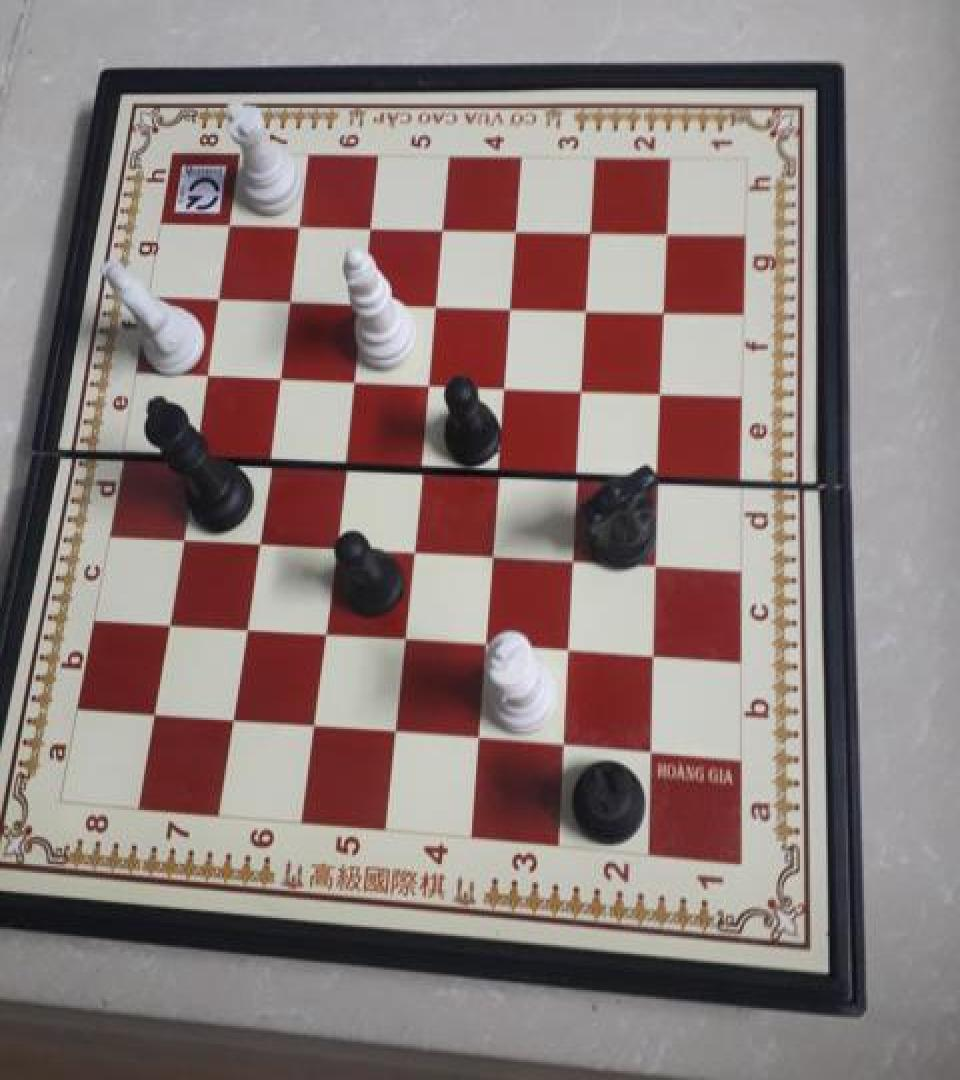xcorner: (141, 693, 169, 725), (300, 705, 328, 737), (381, 712, 409, 744), (465, 720, 493, 752), (638, 733, 666, 765), (155, 603, 183, 635), (310, 614, 338, 646), (472, 625, 500, 657), (555, 631, 583, 663), (169, 516, 197, 548), (321, 526, 349, 558), (399, 531, 427, 563), (479, 535, 507, 567), (560, 540, 588, 572), (182, 435, 210, 467), (330, 442, 358, 474), (407, 445, 435, 477), (485, 450, 513, 482), (564, 453, 592, 485), (340, 362, 368, 394), (569, 371, 597, 403), (206, 281, 234, 313), (277, 283, 305, 315), (422, 288, 450, 320), (497, 290, 525, 322), (573, 292, 601, 324), (217, 209, 245, 241), (287, 211, 315, 243), (576, 217, 604, 249), (652, 218, 680, 250), (219, 700, 247, 731), (551, 727, 579, 758), (232, 609, 260, 640), (390, 620, 418, 651), (640, 637, 668, 668), (244, 521, 272, 552), (643, 546, 671, 577), (255, 439, 283, 470), (646, 458, 674, 489), (194, 357, 222, 388), (266, 359, 294, 390), (415, 366, 443, 397), (491, 368, 519, 399), (648, 375, 676, 406), (349, 286, 377, 317), (650, 295, 678, 326), (357, 213, 385, 244), (429, 214, 457, 245), (502, 215, 530, 246)
